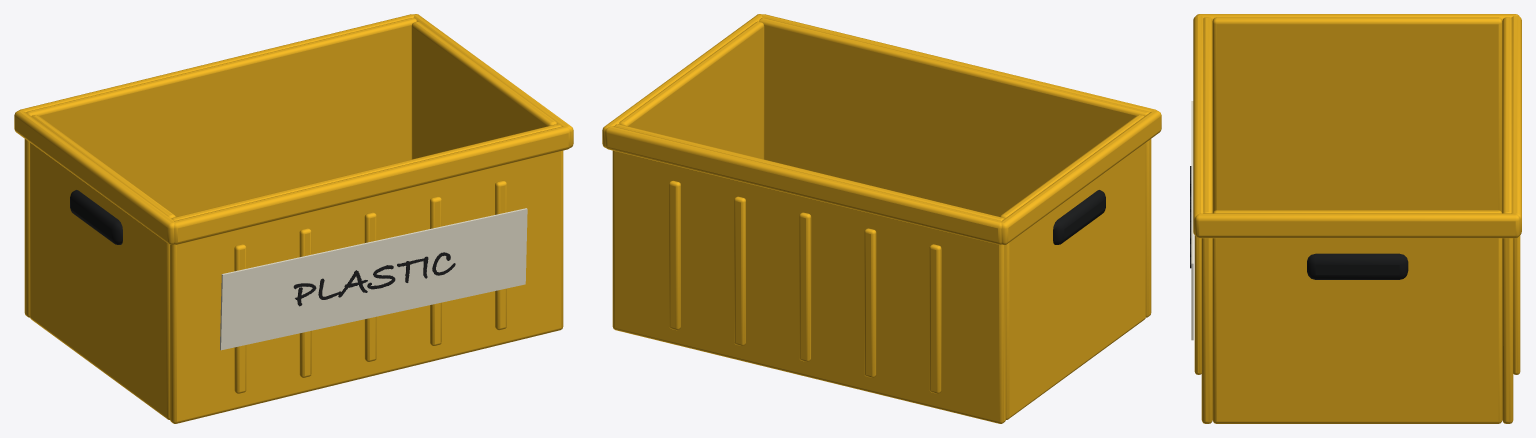
Rendered from crate_plastic.fbx.
3 renders of one model, left to right at view 1: azimuth 30°, elevation 25°; view 2: azimuth 150°, elevation 25°; view 3: azimuth 270°, elevation 25°, orthographic. The views are drawn at different scales.
Visible parts, largest first — view 1: crate_plastic; view 2: crate_plastic; view 3: crate_plastic.
Part boxes in pixels (x1,y1,x2,y2): crate_plastic: (14, 14, 573, 423); crate_plastic: (602, 14, 1161, 423); crate_plastic: (1190, 14, 1521, 423).
Size of the model in its own units: 0.622 by 0.3 by 0.426.
